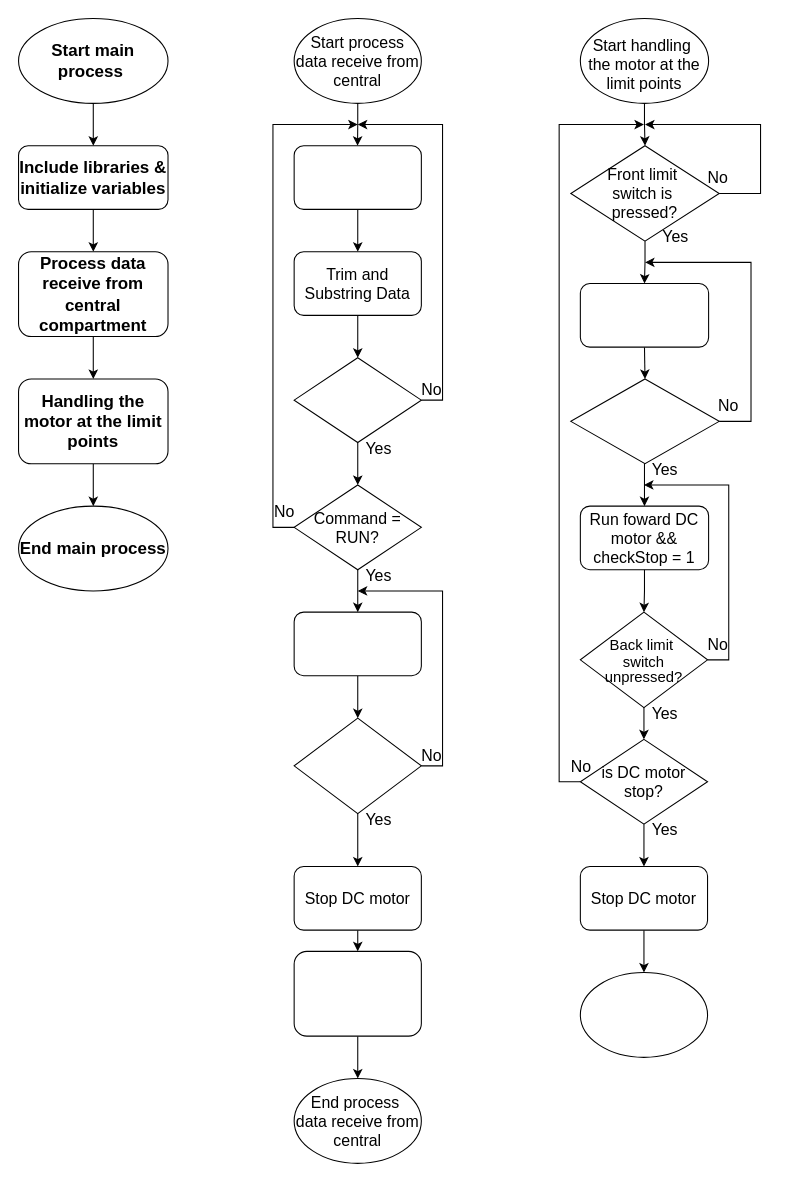
The diagram is 788 pixels wide and 1182 high, and some of its shapes have lost their labels. Each missing label, with the centre of its shape:
Back limit switch pressed?: point 644,421
Correct ID address?: point 357,400
End handling the motor at the limit points: point 643,1014
Receiver Data from master with EspNOW: point 357,177
Run backward DC motor: point 644,314
Run DC motor: point 357,643
Sending feedback data back to central compartment: point 357,993
Stop limit switch is pressed?: point 357,765
